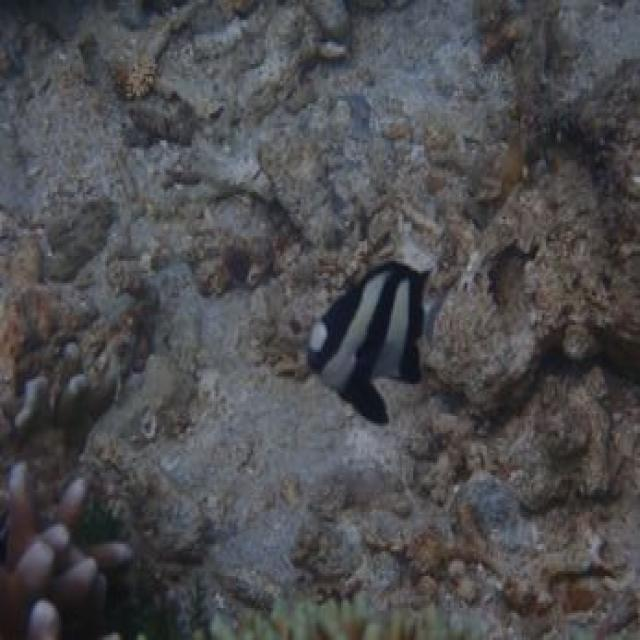ThreeStripedDamselfish: (302, 257, 439, 429)
